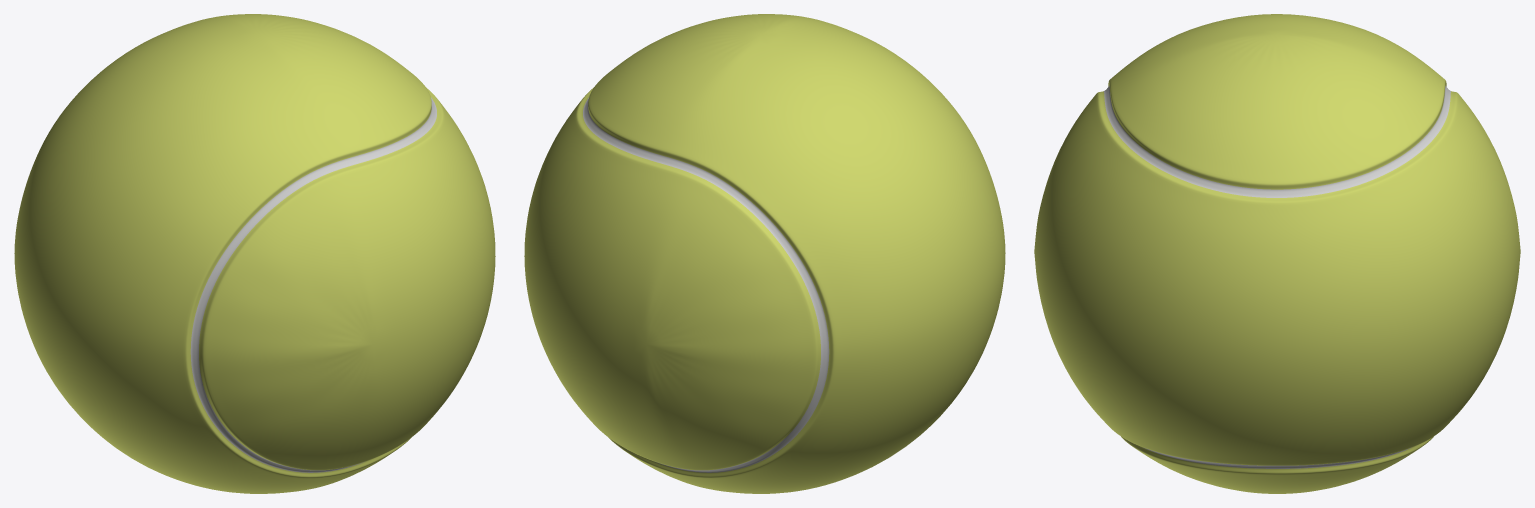
File: tennis_ball.fbx
3 views of the same model, side by side, from view 1: azimuth 30°, elevation 25°; view 2: azimuth 150°, elevation 25°; view 3: azimuth 270°, elevation 25° (orthographic).
Parts seen in each view (by area): view 1: tennisBall; view 2: tennisBall; view 3: tennisBall.
Boxes of the visible parts, x1,y1,x2,y2 form: tennisBall: (14,14,495,493); tennisBall: (524,14,1005,493); tennisBall: (1034,14,1520,493).
Bounding box in the file's own units: 211 × 212 × 212.
